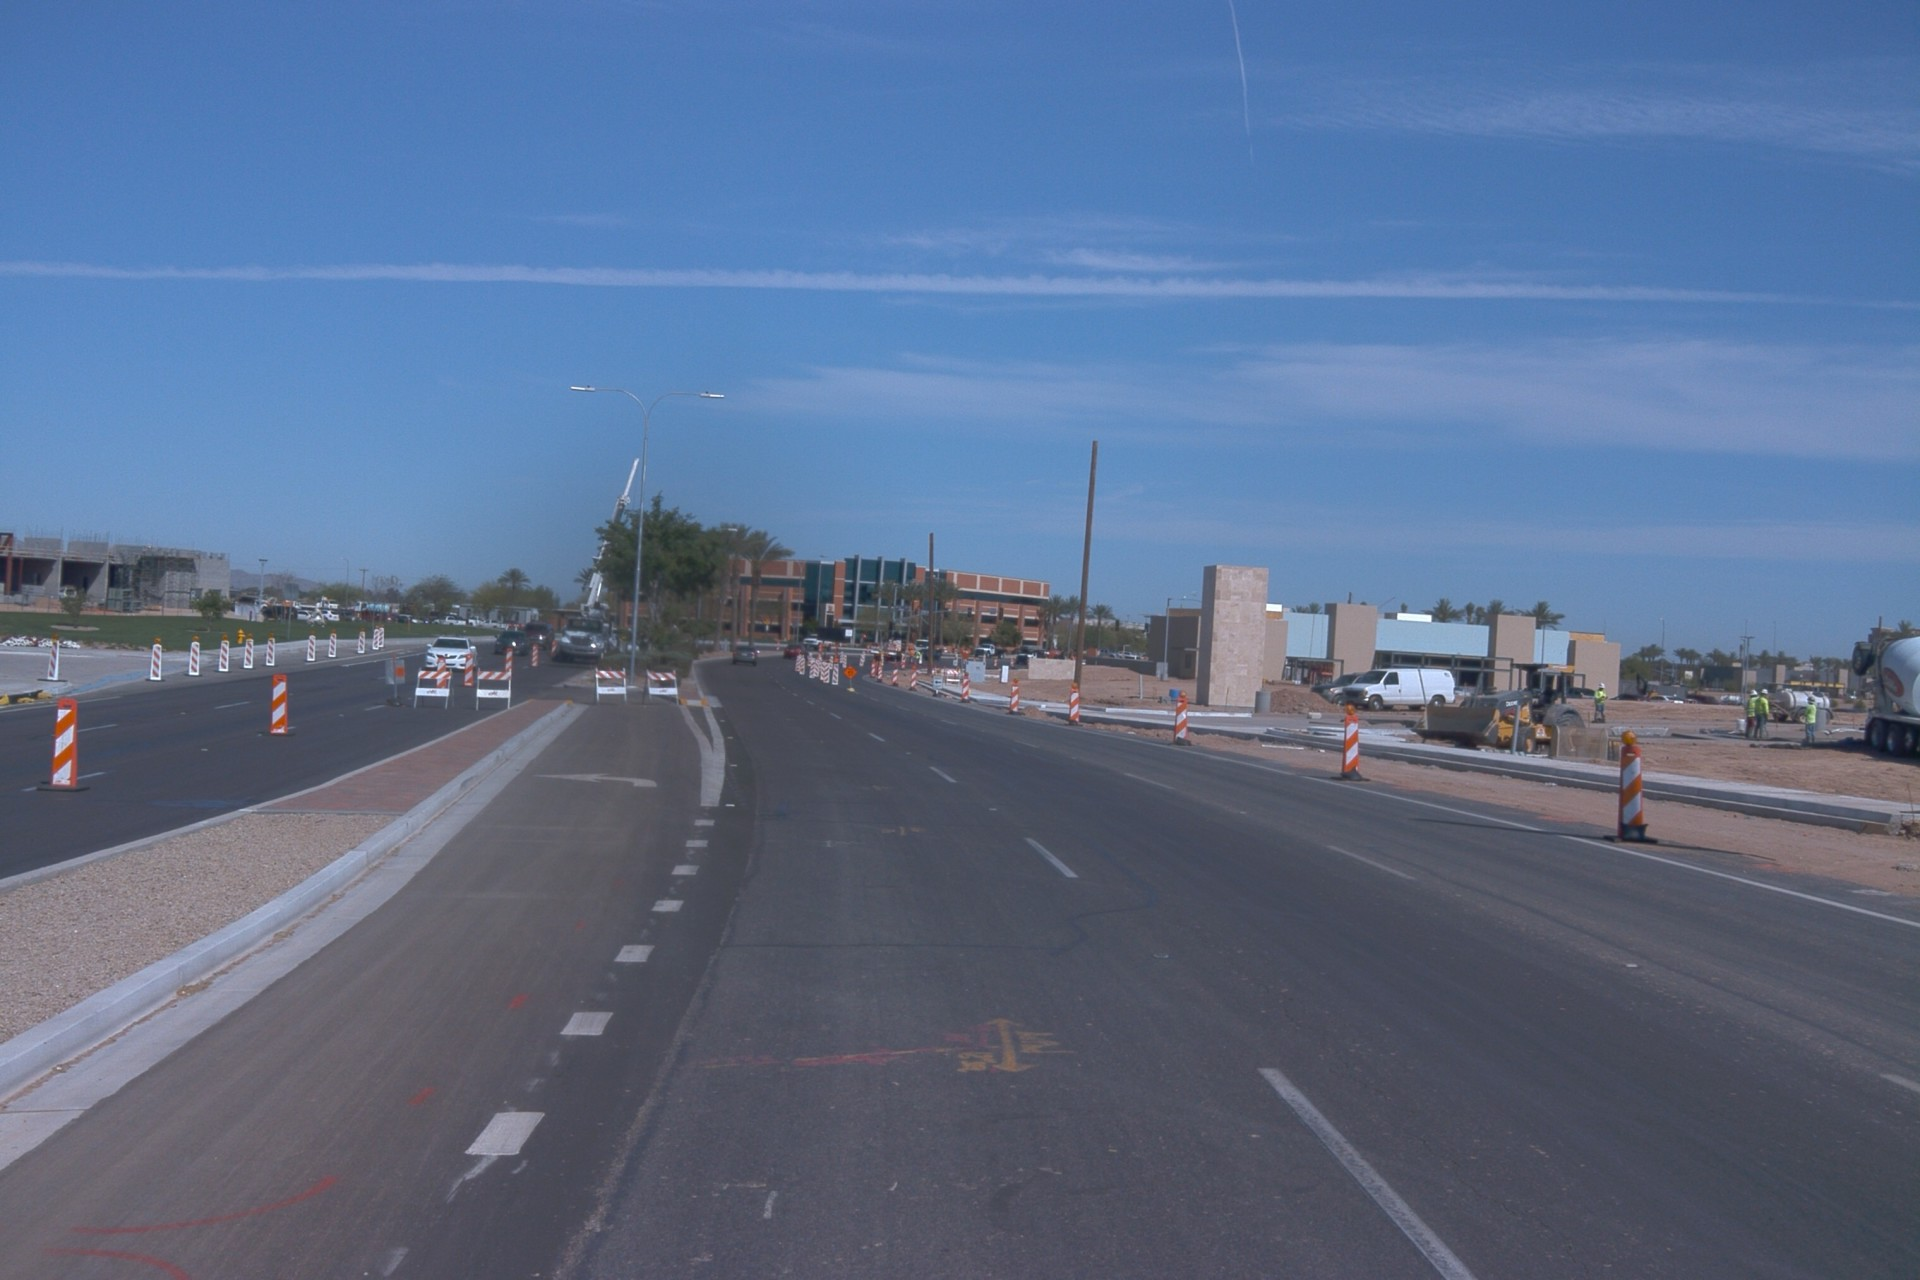TYPE_PEDESTRIAN: (1751, 689, 1771, 742), (1801, 694, 1818, 747), (1745, 689, 1762, 740), (1592, 683, 1607, 724), (915, 650, 922, 665)
TYPE_VEHICLE: (544, 458, 640, 669), (1339, 667, 1459, 711), (1765, 686, 1835, 727), (809, 621, 848, 674), (1310, 671, 1365, 707), (866, 635, 924, 667), (427, 634, 480, 667), (216, 592, 271, 617), (516, 619, 554, 654), (493, 629, 529, 655), (1014, 646, 1053, 667), (362, 608, 403, 627), (973, 642, 1009, 663), (730, 644, 759, 668), (261, 606, 300, 623), (912, 634, 943, 655), (781, 638, 810, 660), (803, 632, 836, 651), (296, 606, 325, 624), (431, 614, 467, 628), (1684, 692, 1722, 705), (1608, 693, 1652, 704), (56, 579, 77, 602), (317, 607, 343, 625), (1564, 688, 1599, 701), (1647, 694, 1688, 704), (339, 609, 363, 625)
